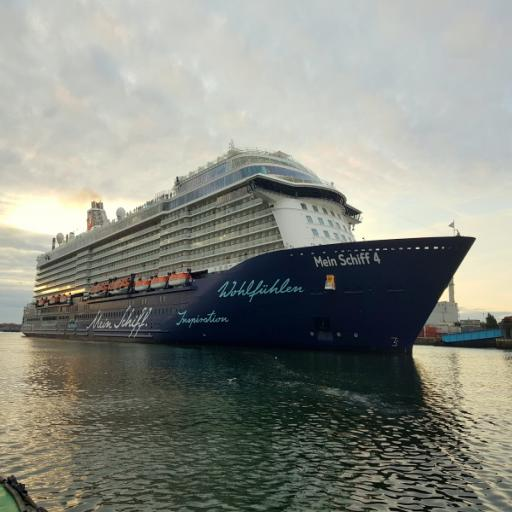cruises: (20, 135, 475, 381)
